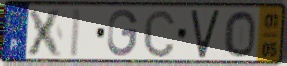C: (142, 8, 177, 60)
G: (105, 8, 139, 58)
I: (68, 7, 84, 59)
O: (223, 10, 257, 59)
V: (189, 8, 222, 60)
X: (25, 7, 66, 58)
